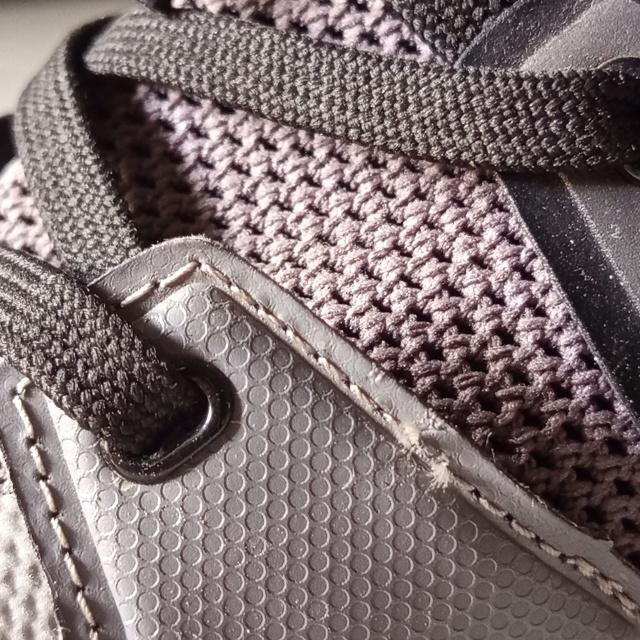broken: (392, 407, 464, 494)
